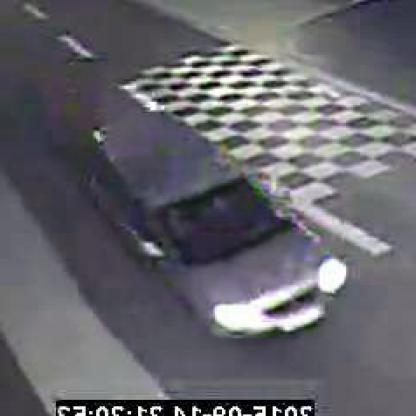car: (78, 111, 345, 341)
